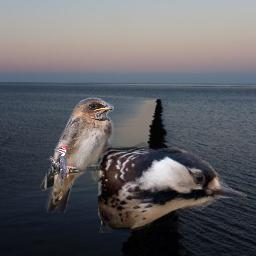Swallow: (40, 97, 114, 213)
Woodpecker: (98, 140, 247, 233), (47, 146, 68, 188)
